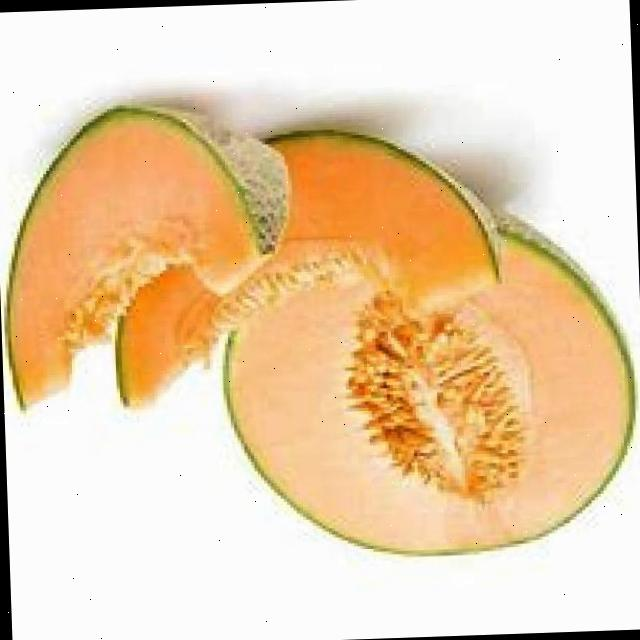Hami Melon: (220, 196, 638, 560)
